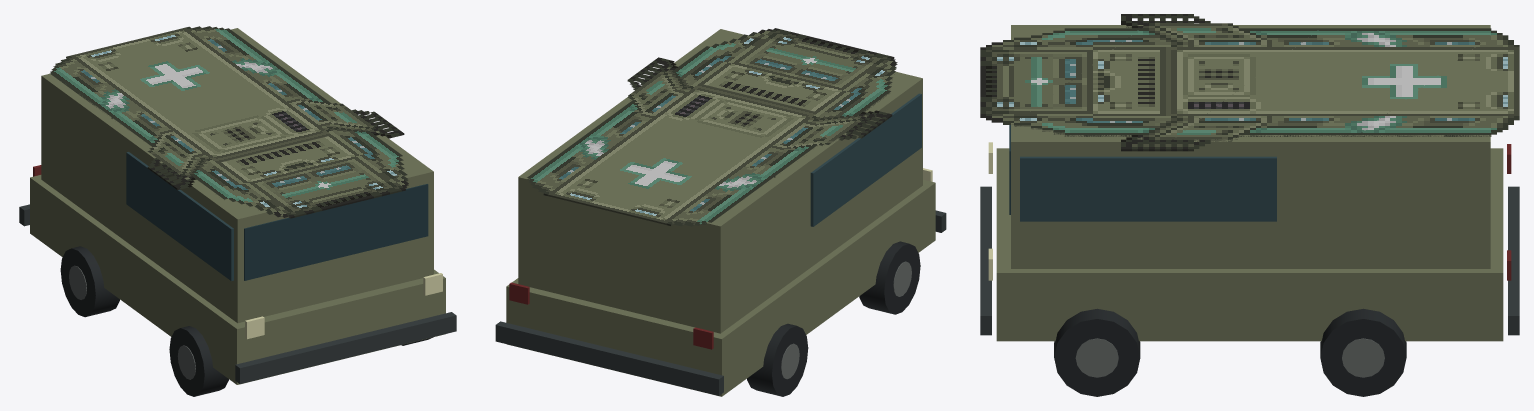
The model's file is CMU3DReduxVehicleSPPVanMedical.glb.
The picture shows the model from 3 angles, left to right: view 1: azimuth 30°, elevation 25°; view 2: azimuth 150°, elevation 25°; view 3: azimuth 270°, elevation 25°; orthographic projection. The views are drawn at different scales.
Parts seen in each view (by area): view 1: source hull roof panel (×3), upper hull, closed lower chassis, cab windscreen, cab side window, front bumper, road tire (×2), wheel hub (×2); view 2: source hull roof panel (×3), upper hull, closed lower chassis, cab side window, rear bumper, road tire (×2), wheel hub (×2); view 3: source hull roof panel (×3), upper hull, closed lower chassis, cab side window, road tire (×2), wheel hub (×2), rear bumper, front bumper.
Boxes of the visible parts, bbox=[...] form: source hull roof panel (×3): bbox=[50, 26, 408, 218]; upper hull: bbox=[41, 28, 433, 323]; closed lower chassis: bbox=[30, 175, 445, 384]; cab windscreen: bbox=[244, 184, 428, 280]; cab side window: bbox=[126, 152, 233, 281]; front bumper: bbox=[235, 312, 456, 383]; road tire (×2): bbox=[60, 246, 228, 396]; wheel hub (×2): bbox=[69, 265, 195, 379]; source hull roof panel (×3): bbox=[527, 28, 897, 226]; upper hull: bbox=[518, 29, 922, 333]; closed lower chassis: bbox=[506, 179, 935, 396]; cab side window: bbox=[810, 93, 921, 226]; rear bumper: bbox=[495, 321, 723, 395]; road tire (×2): bbox=[747, 241, 920, 396]; wheel hub (×2): bbox=[781, 261, 911, 379]; source hull roof panel (×3): bbox=[980, 14, 1519, 151]; upper hull: bbox=[1011, 25, 1490, 268]; closed lower chassis: bbox=[996, 148, 1503, 341]; cab side window: bbox=[1020, 156, 1276, 221]; road tire (×2): bbox=[1054, 308, 1406, 396]; wheel hub (×2): bbox=[1075, 338, 1384, 377]; rear bumper: bbox=[1508, 186, 1519, 335]; front bumper: bbox=[980, 186, 991, 335].
Bounding box in the file's own units: 1.85 × 1.49 × 3.
11 materials, 3 textured.
